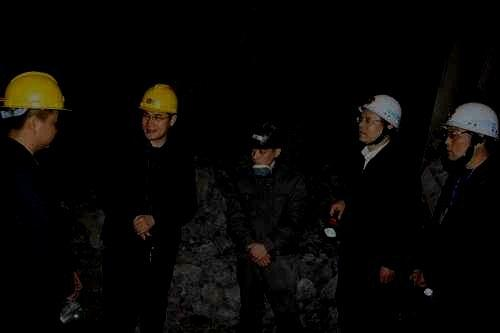helmet: (1, 71, 72, 148), (442, 103, 498, 164), (356, 95, 402, 144), (139, 84, 178, 139), (247, 124, 281, 167)
